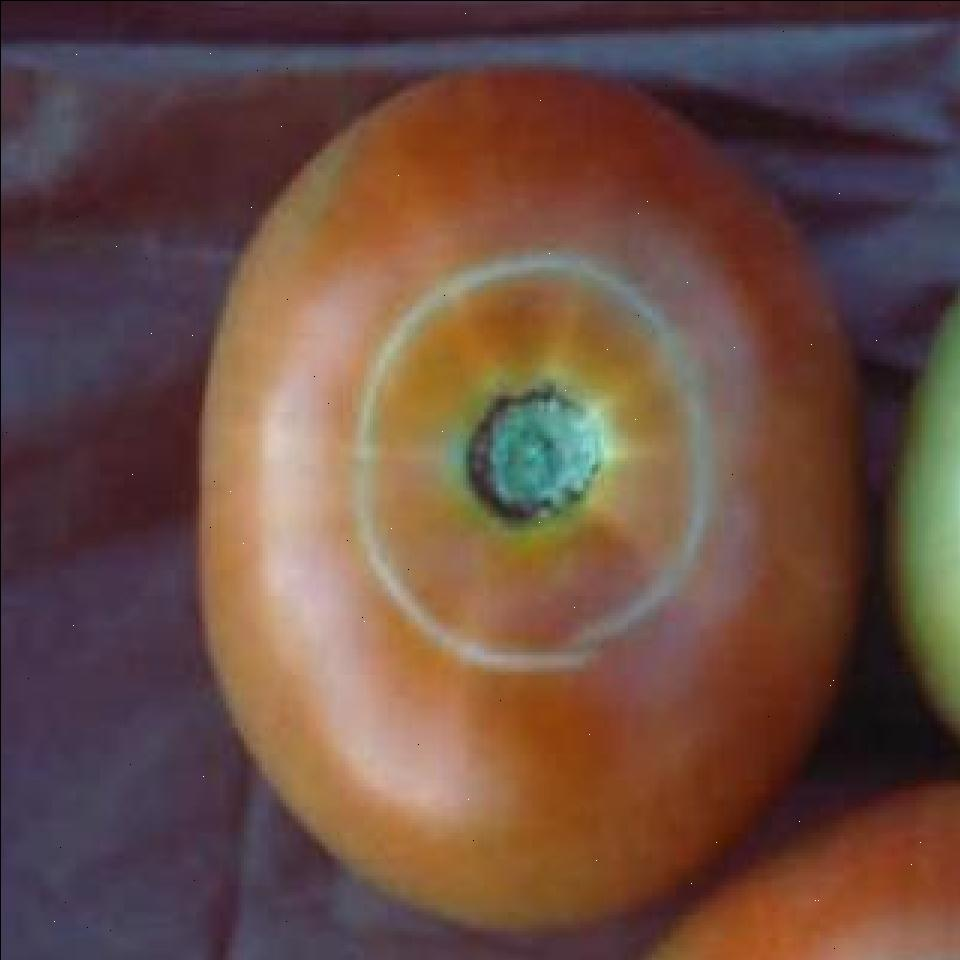Cracking: (327, 238, 719, 672)
